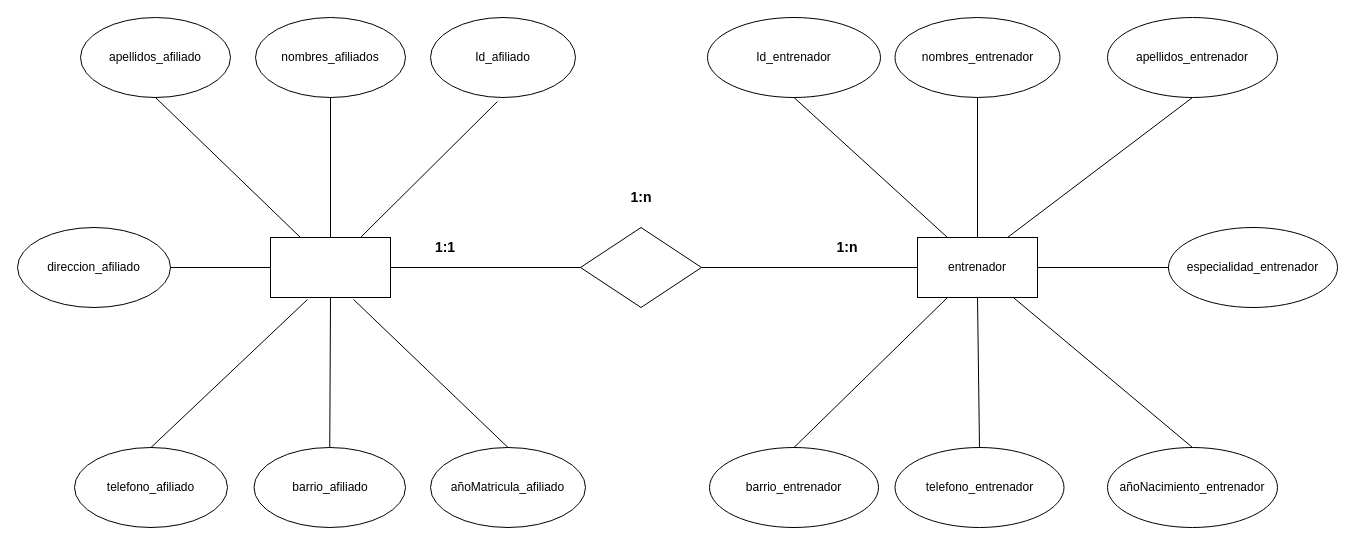
Image size: 1355x545. Some labels were removed from this diagram. Here are the shapes that lost their labels. From the top down, the centre of each, then its label:
At (330,267): "afiliado".
At (641,267): "Es entrenado por".
